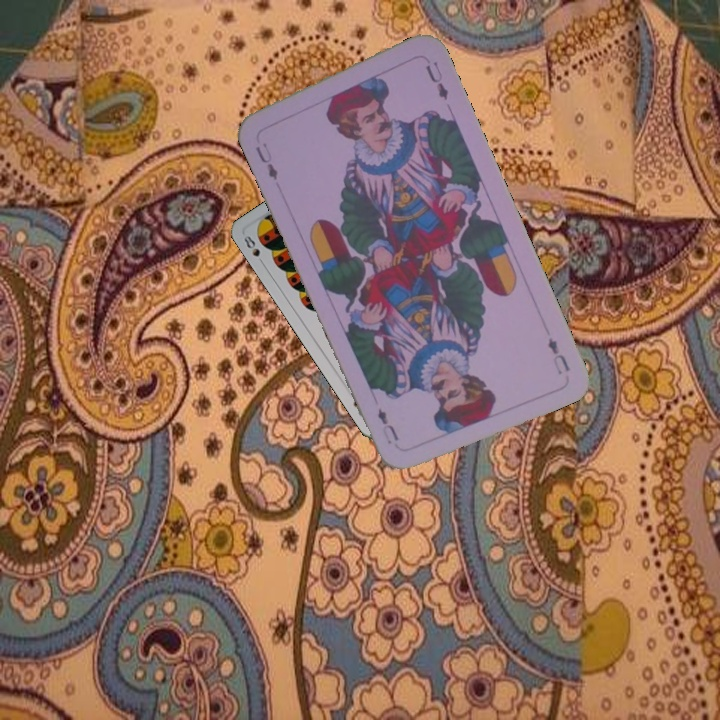EU: (251, 138, 281, 183), (544, 333, 573, 377)
S8: (240, 231, 267, 268)
